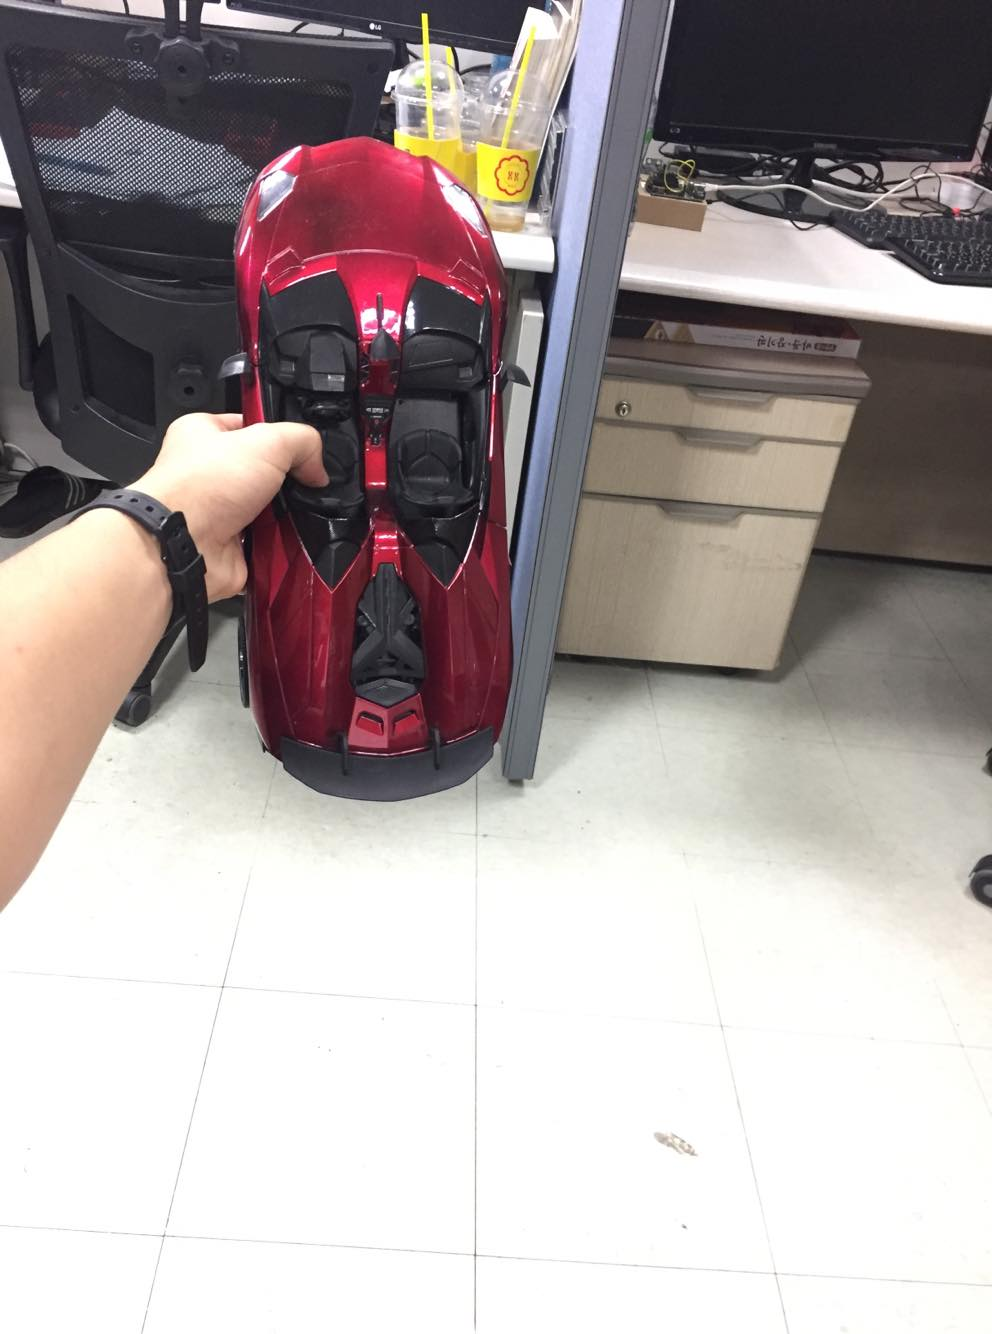car: (207, 153, 552, 814)
